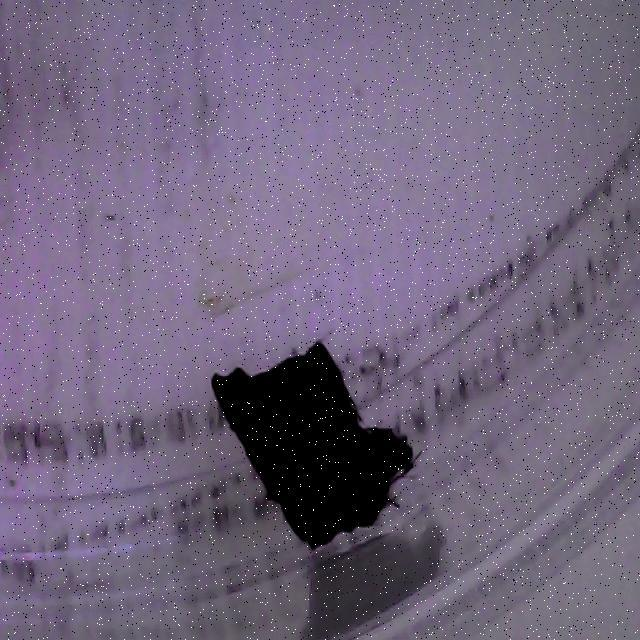fragments: (205, 310, 435, 563)
